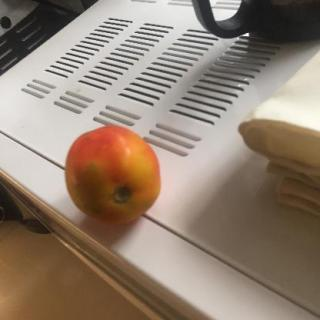Tomat: (58, 123, 170, 232)
